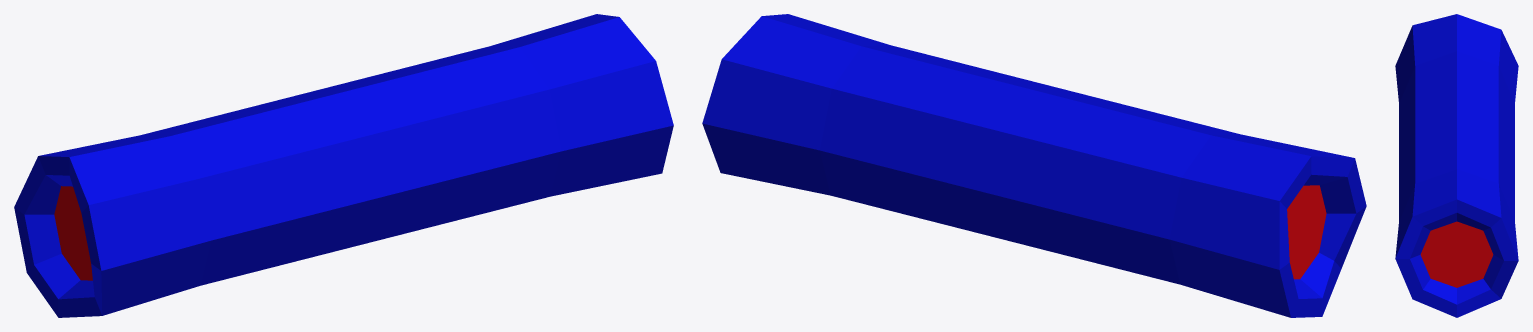
The model's file is SM_Short_Log2.fbx.
3 renders of one model, left to right at view 1: azimuth 30°, elevation 25°; view 2: azimuth 150°, elevation 25°; view 3: azimuth 270°, elevation 25°, orthographic. The views are drawn at different scales.
Parts seen in each view (by area): view 1: SM_Short_Log2; view 2: SM_Short_Log2; view 3: SM_Short_Log2.
Part boxes in pixels (x1,y1,x2,y2): SM_Short_Log2: [14, 14, 673, 317]; SM_Short_Log2: [702, 14, 1366, 317]; SM_Short_Log2: [1395, 14, 1518, 317].
Size of the model in its own units: 77.8 by 20.96 by 20.21.
